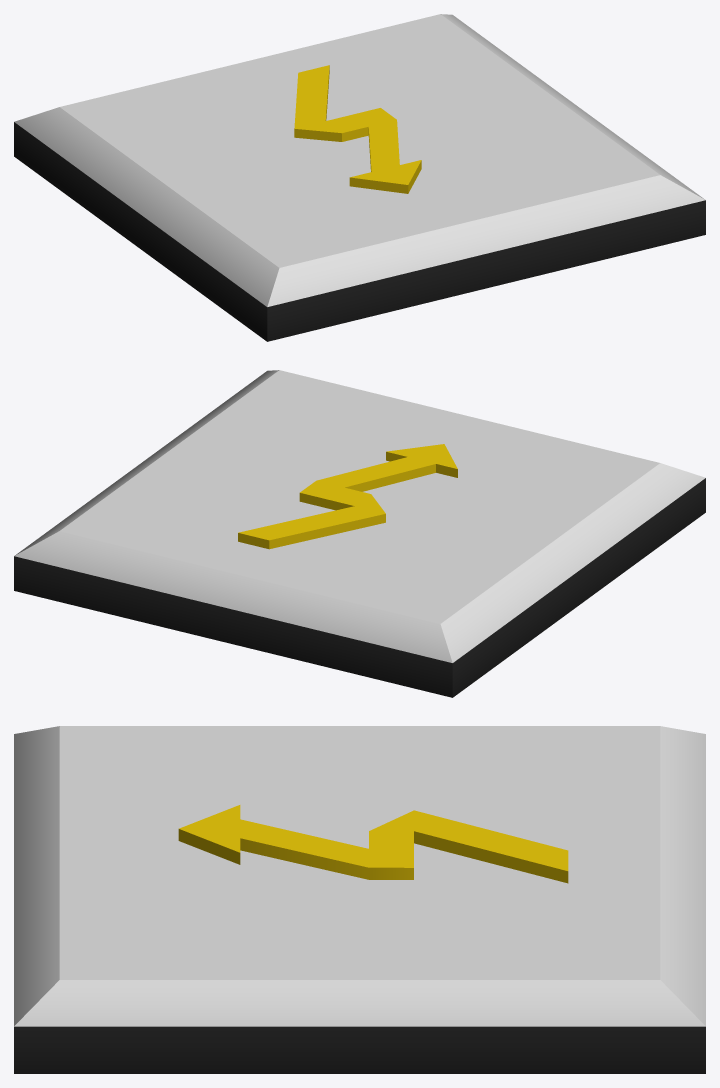
File: PowerBox.fbx
The picture shows the model from 3 angles, top to bottom: view 1: azimuth 30°, elevation 25°; view 2: azimuth 150°, elevation 25°; view 3: azimuth 270°, elevation 25°; orthographic projection. The views are drawn at different scales.
Visible parts, largest first — view 1: Box, Lightning; view 2: Box, Lightning; view 3: Box, Lightning.
Part boxes in pixels (x1,y1,x2,y2): Box: (14, 14, 705, 341); Lightning: (294, 65, 421, 193); Box: (14, 370, 705, 697); Lightning: (238, 444, 457, 549); Box: (14, 726, 705, 1073); Lightning: (178, 805, 568, 883).
Bounding box in the file's own units: 200 × 27.7 × 200.
